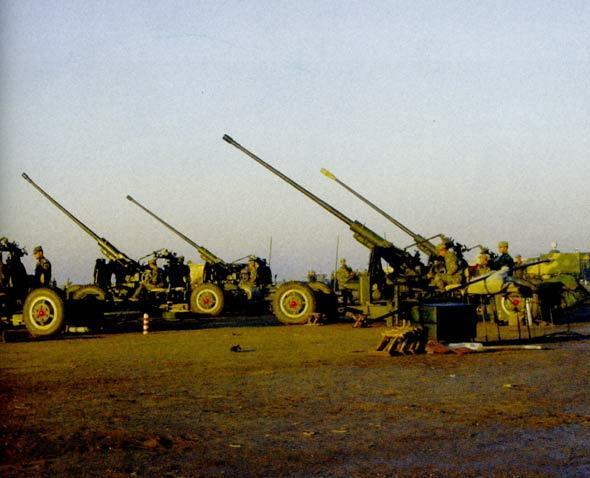MIL_SPG: (22, 173, 272, 336), (225, 135, 431, 324)
